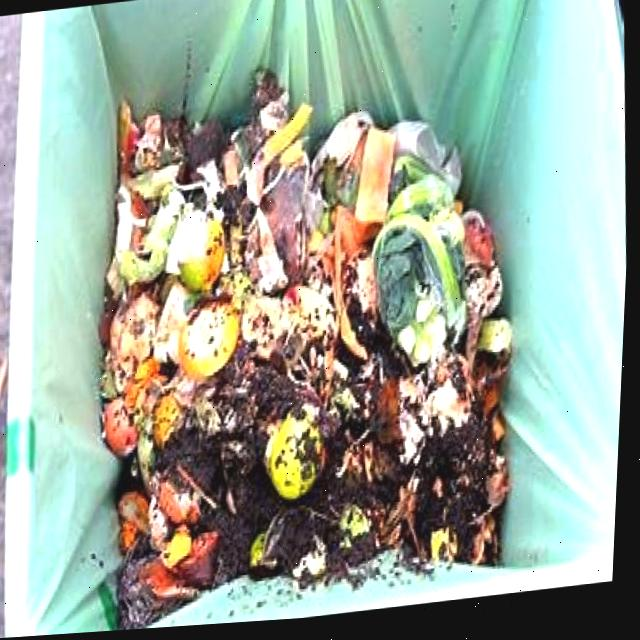Garbage: (104, 73, 517, 632)
